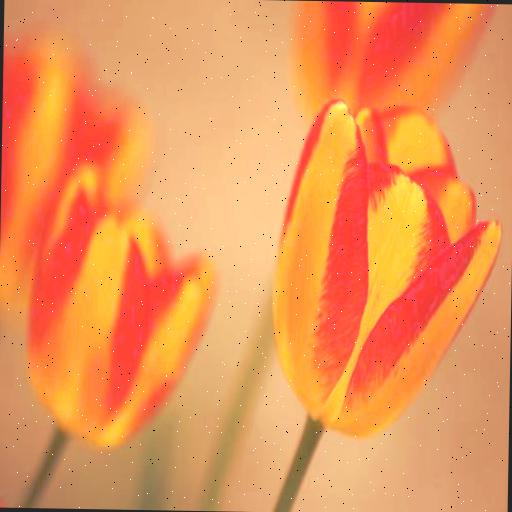tulip: (270, 96, 502, 443), (20, 165, 216, 448)
